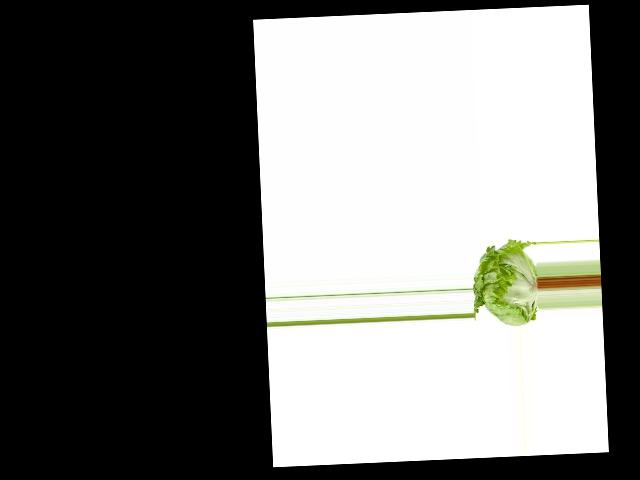lettuce: (471, 235, 540, 330)
